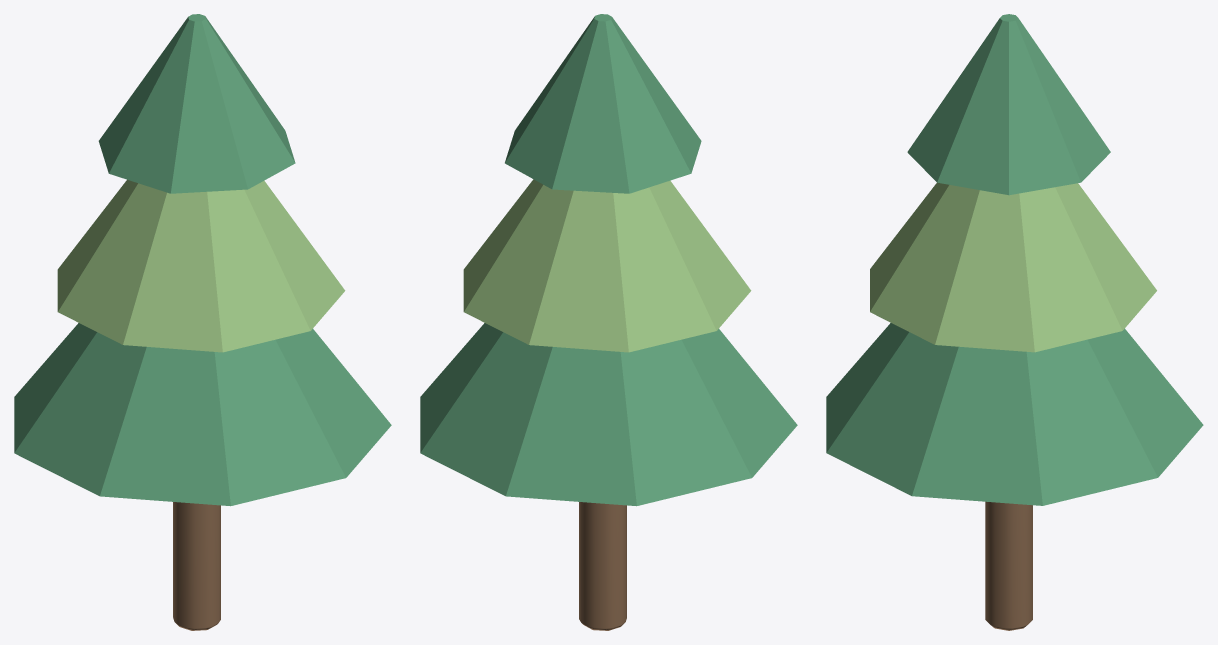
File: MYB96_AlpinePineSmall.fbx
3 views of the same model, side by side, from view 1: azimuth 30°, elevation 25°; view 2: azimuth 150°, elevation 25°; view 3: azimuth 270°, elevation 25° (orthographic).
Parts seen in each view (by area): view 1: lower_bough, upper_bough, tip, trunk; view 2: lower_bough, upper_bough, tip, trunk; view 3: lower_bough, upper_bough, tip, trunk.
Part boxes in pixels (x1=…): lower_bough: x1=14, y1=323, x2=391, y2=506; upper_bough: x1=57, y1=179, x2=345, y2=352; tip: x1=98, y1=14, x2=295, y2=193; trunk: x1=173, y1=502, x2=220, y2=630; lower_bough: x1=420, y1=323, x2=797, y2=506; upper_bough: x1=463, y1=179, x2=751, y2=352; tip: x1=505, y1=14, x2=701, y2=193; trunk: x1=579, y1=502, x2=626, y2=630; lower_bough: x1=826, y1=323, x2=1203, y2=505; upper_bough: x1=870, y1=182, x2=1156, y2=352; tip: x1=907, y1=14, x2=1110, y2=195; trunk: x1=985, y1=501, x2=1032, y2=630.
Size of the model in its own units: 82.72 by 144 by 81.47.
